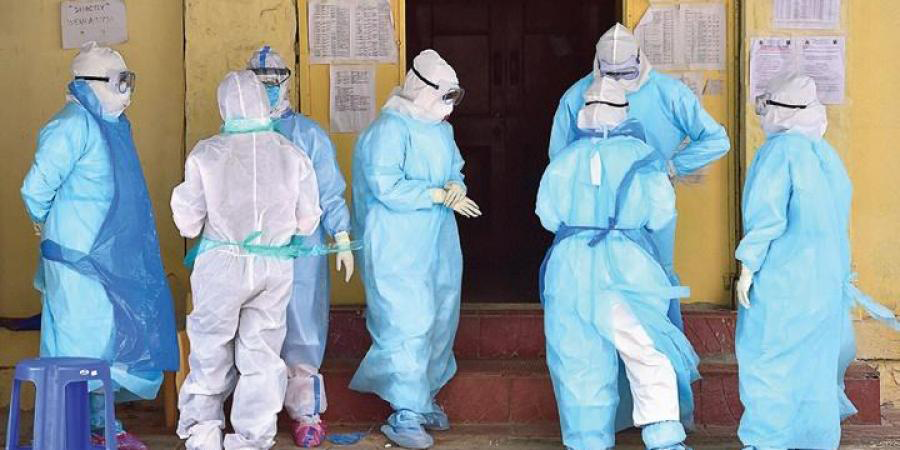Coverall: (26, 43, 165, 450), (173, 69, 308, 450), (540, 102, 675, 450), (354, 47, 468, 450), (729, 79, 848, 450)
Gloves: (732, 261, 757, 319), (330, 232, 356, 285), (444, 180, 465, 209)
